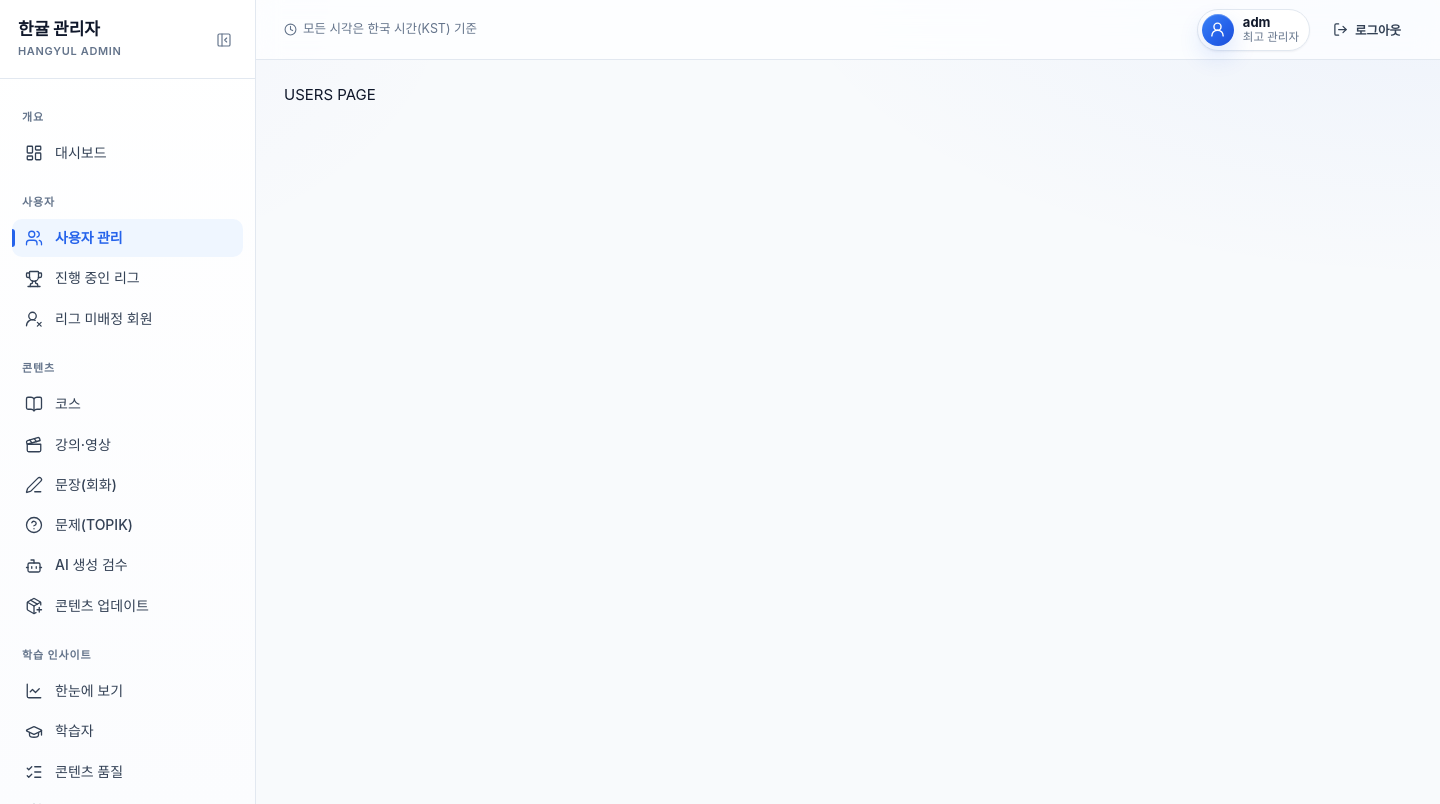
admin brand › navigates to the dashboard when clicked
The width and height of the screenshot is (1440, 804).
Expected: the text "USERS PAGE" is shown, [284,85,376,104]
Click the link "한귤 관리자 Hangyul Admin" at point(70, 39), box [18,19,122,58]
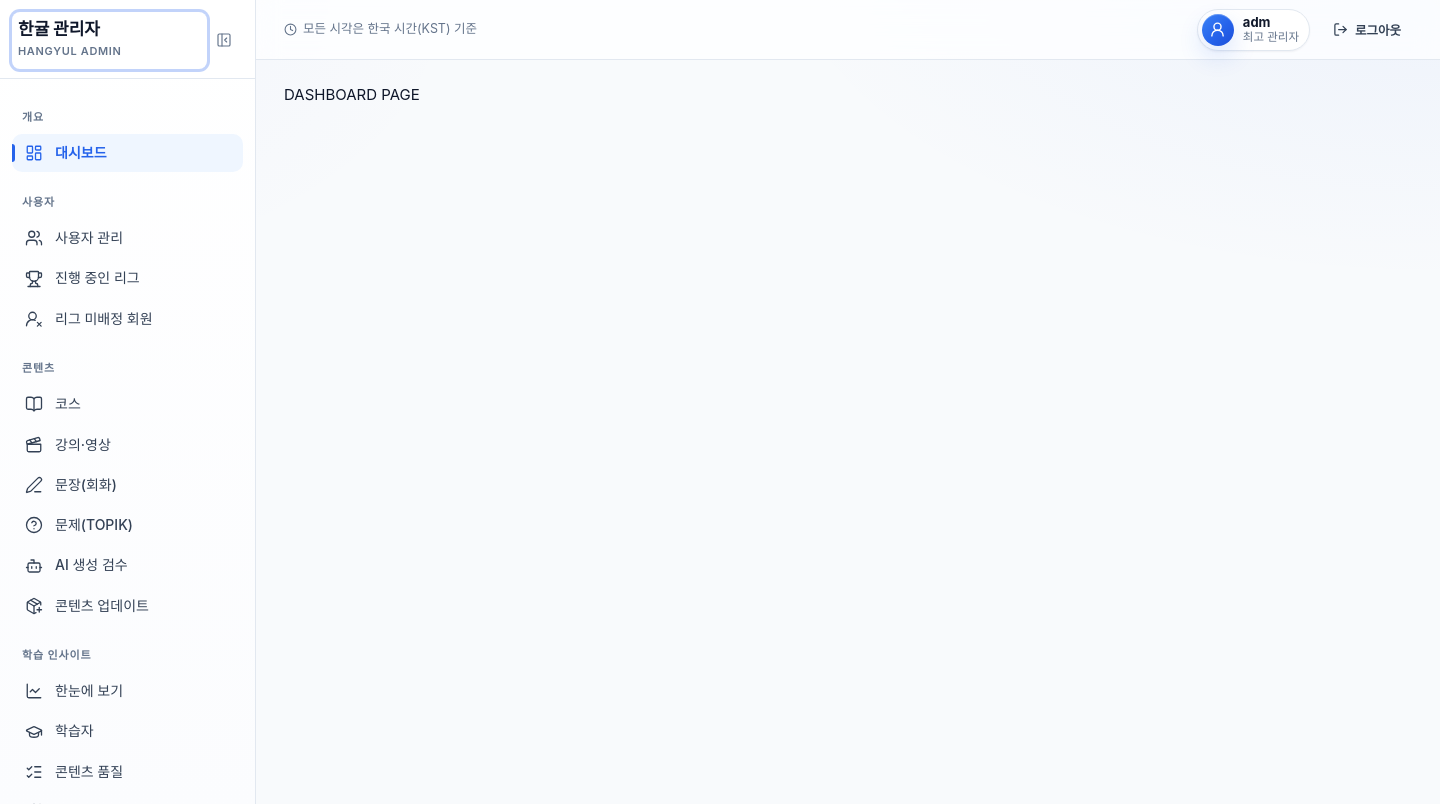
Expected: the text "DASHBOARD PAGE" is shown, [284,85,420,104]
